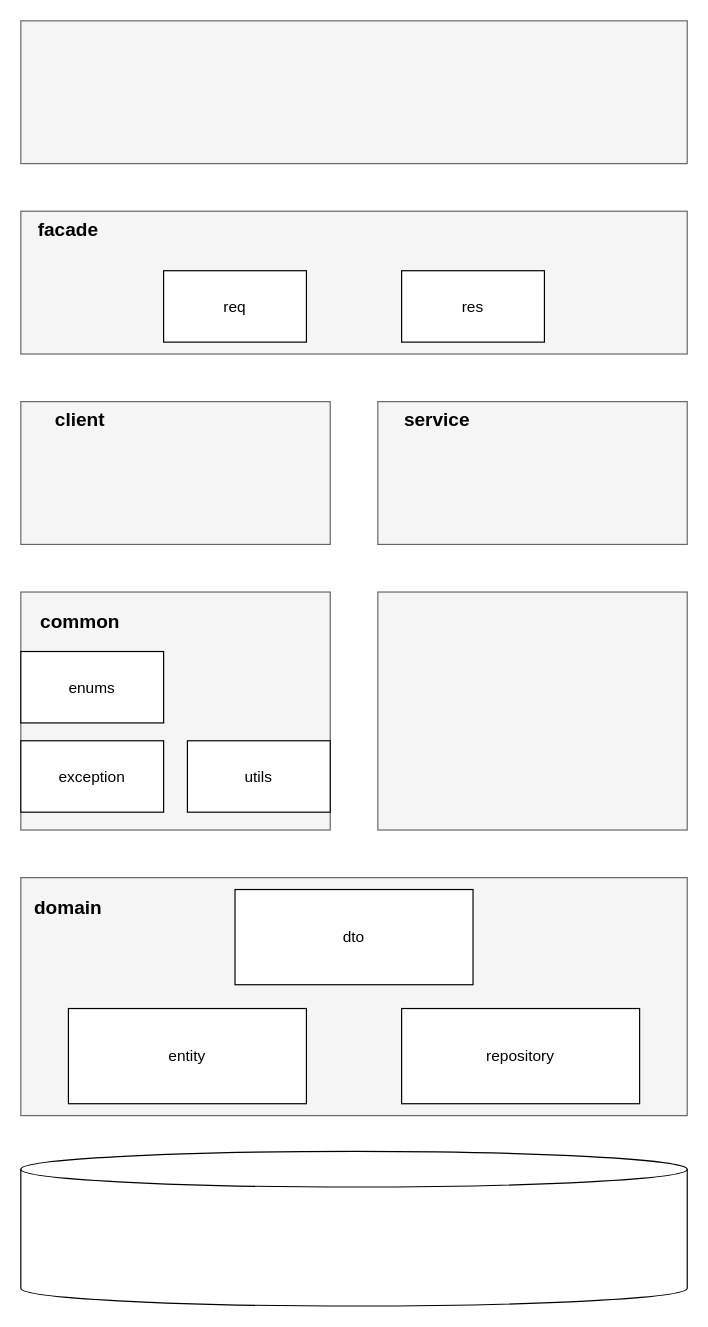
Some shapes in this 708 by 1327 pixel diagram are drawn without their labels. Each missing label, with the box of its shape:
config: (377, 591, 687, 830)
controller: (20, 20, 687, 164)
DB: (20, 1150, 687, 1306)
